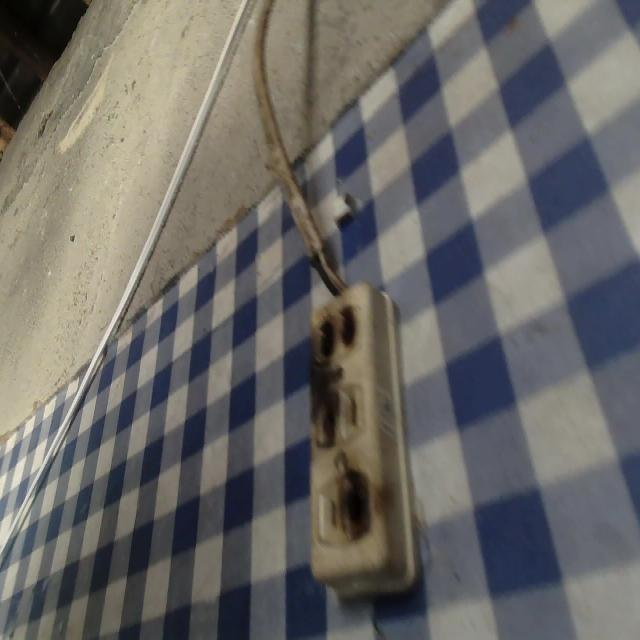-: (311, 303, 362, 360), (338, 468, 374, 544), (313, 384, 341, 452)
